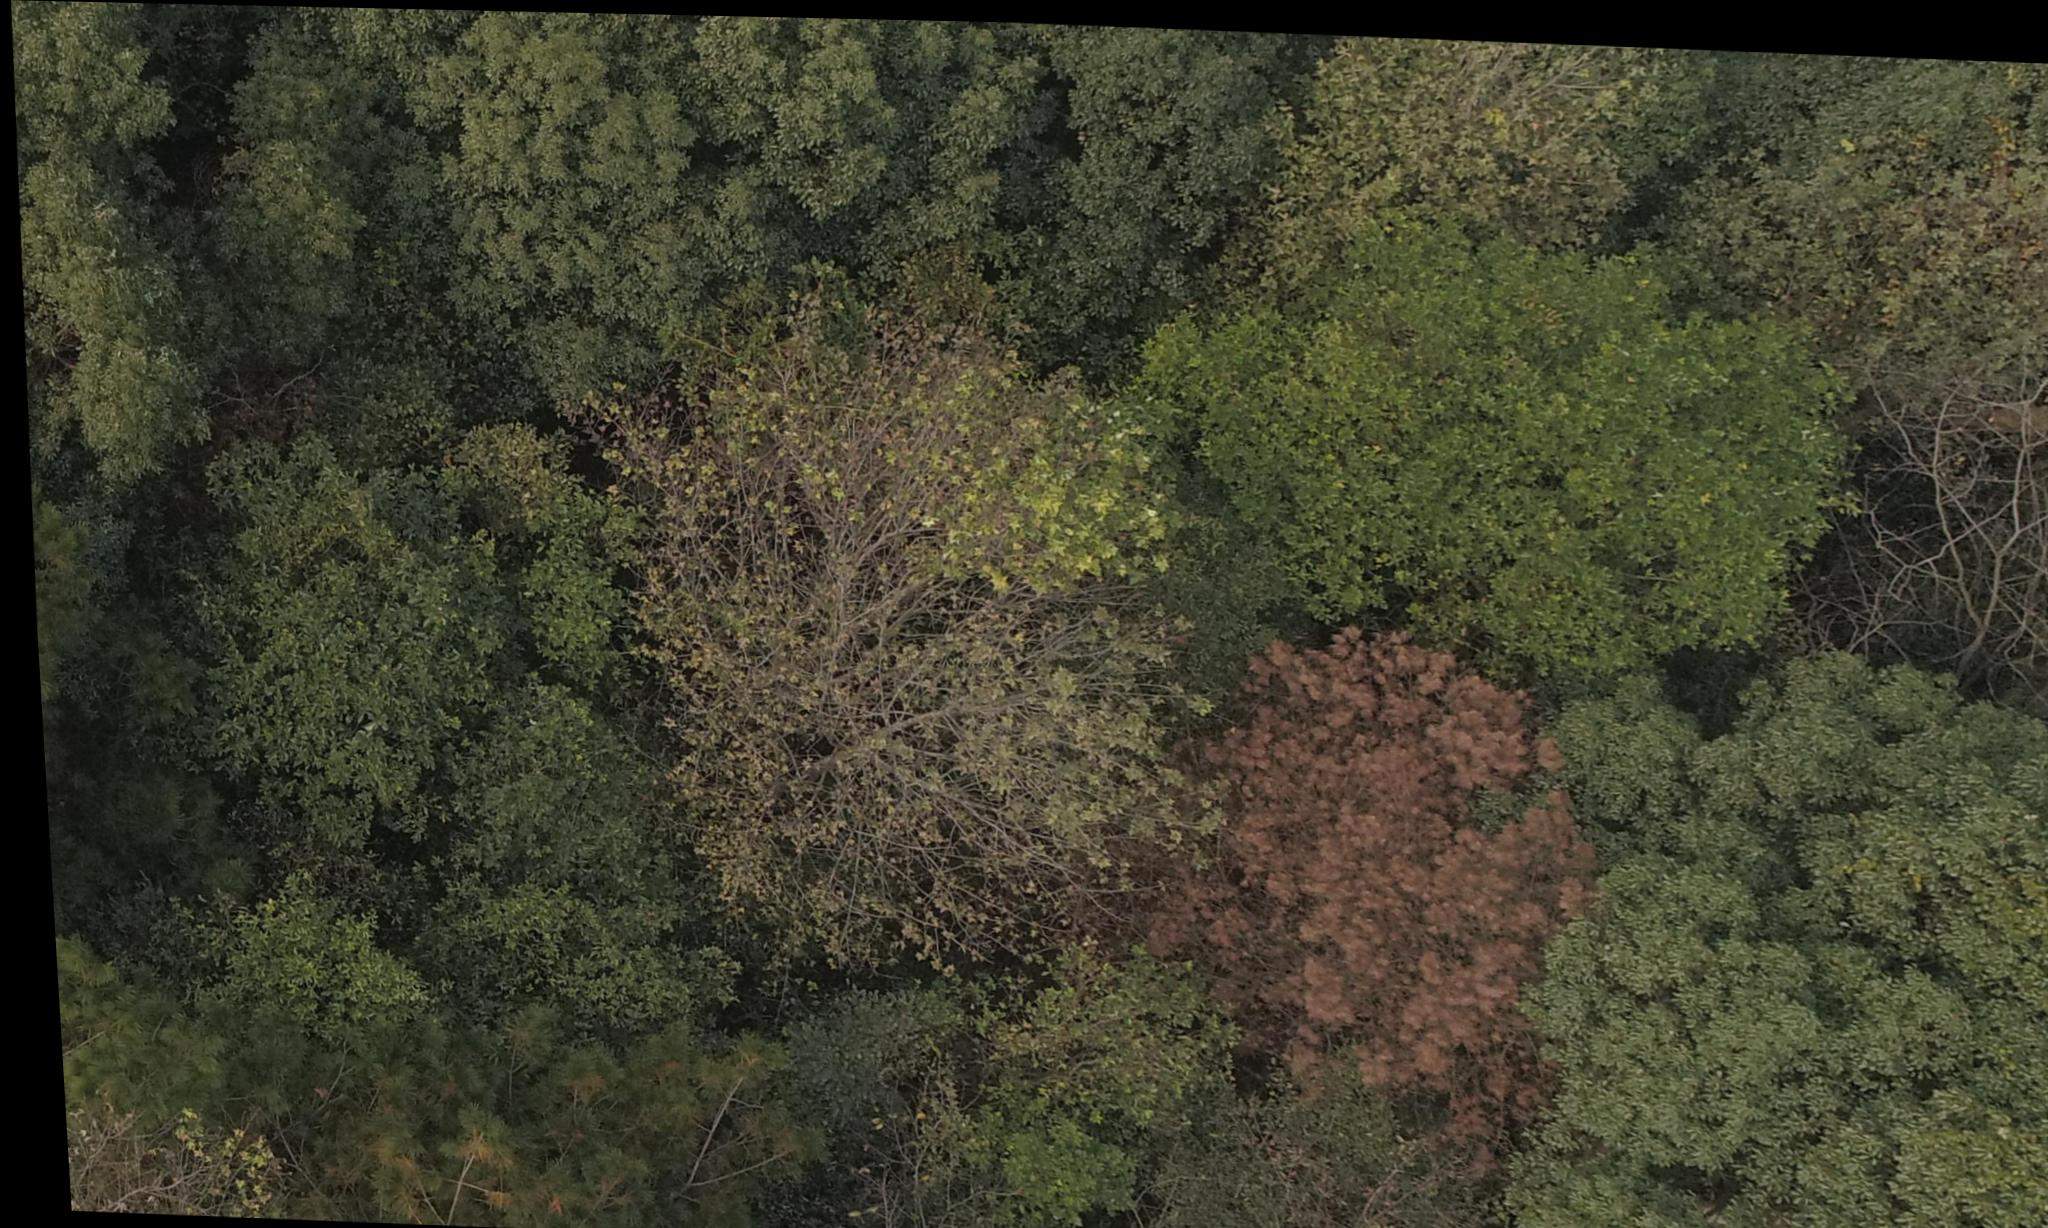heavy: (1158, 610, 1593, 1118)
light: (307, 1026, 662, 1215)
